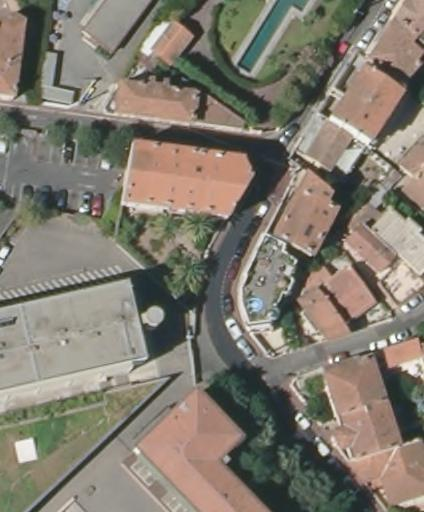pool: (238, 0, 316, 73)
